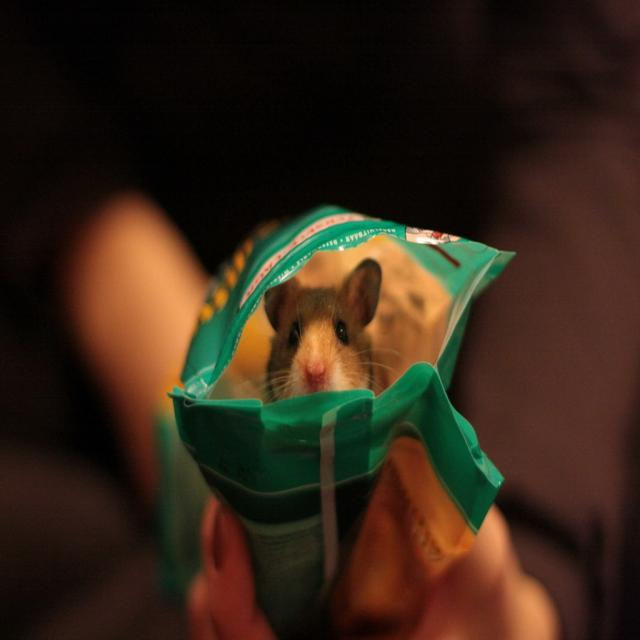rat: (244, 256, 401, 390)
